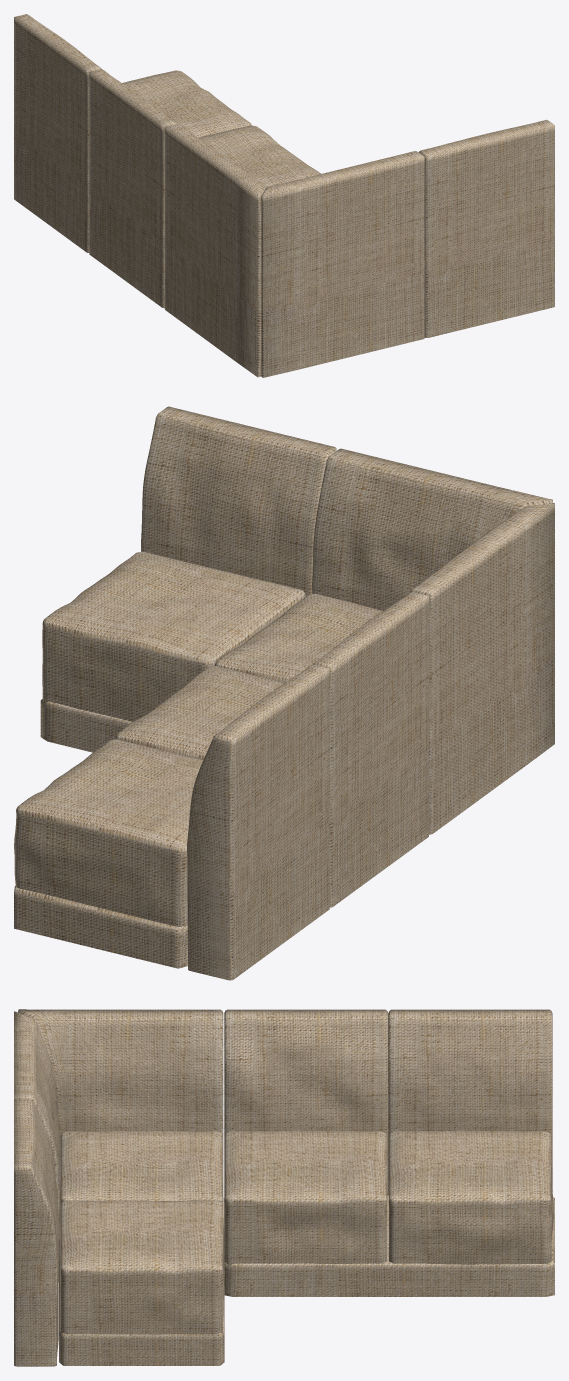
Rendered from sofa.fbx.
3 views of the same model, one above another, from view 1: azimuth 30°, elevation 25°; view 2: azimuth 150°, elevation 25°; view 3: azimuth 270°, elevation 25° (orthographic). The views are drawn at different scales.
Visible parts, largest first — view 1: CushionBack.002, CushionBack.004, CushionBack.007, CushionBack.000, CushionBack.001, Cushion.000, Cushion.002; view 2: CushionBack.000, CushionBack.007, Cushion.004, CushionBack.004, CushionBack.001, Cushion.000, CushionBack.002, Cushion.002, Cushion.006, Cushion.003, Cushion.005; view 3: Cushion.004, Cushion.000, Cushion.002, CushionBack.007, CushionBack.001, CushionBack.000, Cushion.006, Cushion.003, CushionBack.004, Cushion.005, CushionBack.002.
Boxes of the visible parts, x1,y1,x2,y2 form: CushionBack.002: (261,151,424,377); CushionBack.004: (418,119,554,337); CushionBack.007: (164,124,266,377); CushionBack.000: (14,14,101,252); CushionBack.001: (89,69,176,307); Cushion.000: (122,70,251,137); Cushion.002: (199,125,320,187); CushionBack.000: (187,664,329,980); CushionBack.007: (410,503,554,834); Cushion.004: (42,551,305,721); CushionBack.004: (141,406,336,596); CushionBack.001: (313,591,428,907); Cushion.000: (14,739,203,926); CushionBack.002: (312,448,552,610); Cushion.002: (115,666,284,759); Cushion.006: (14,886,187,968); Cushion.003: (214,593,382,682); Cushion.005: (40,698,131,752); Cushion.004: (60,1200,224,1334); Cushion.000: (389,1130,553,1264); Cushion.002: (224,1130,386,1265); CushionBack.007: (18,1009,223,1197); CushionBack.001: (224,1009,388,1197); CushionBack.000: (388,1009,552,1194); Cushion.006: (224,1195,554,1296); Cushion.003: (60,1130,222,1203); CushionBack.004: (14,1099,59,1366); Cushion.005: (59,1198,224,1365); CushionBack.002: (14,1011,60,1216).
Bounding box in the file's own units: 297 × 121 × 206.
